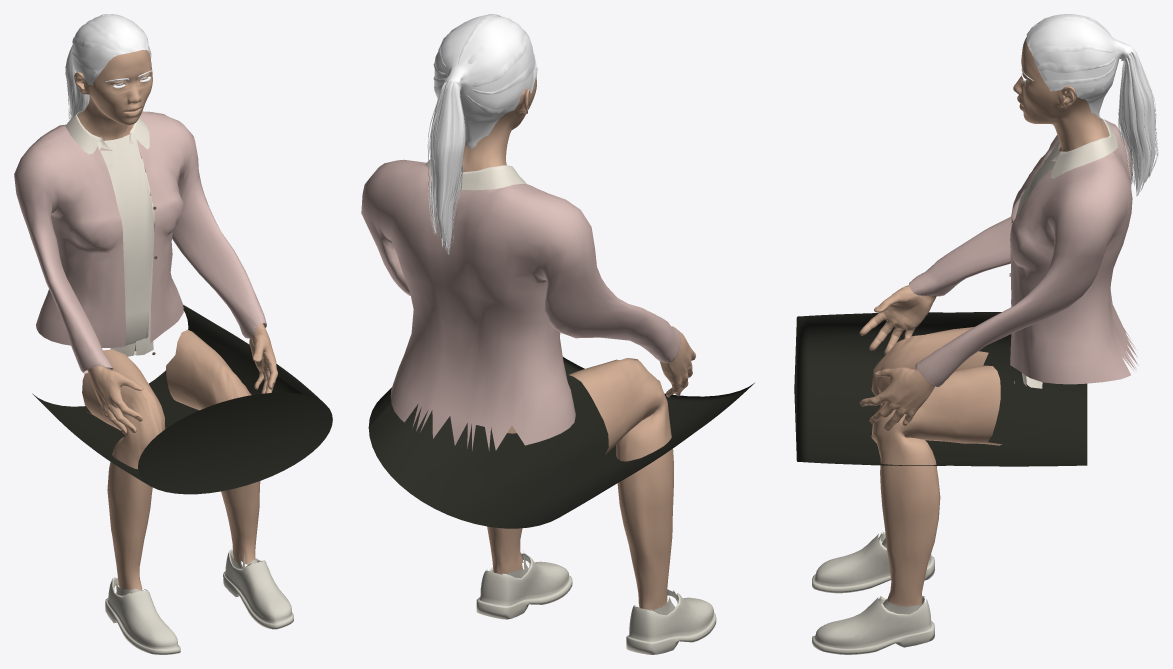
The model's file is young-woman-seated.glb.
The picture shows the model from 3 angles, left to right: view 1: azimuth 30°, elevation 25°; view 2: azimuth 150°, elevation 25°; view 3: azimuth 270°, elevation 25°; orthographic projection. The views are drawn at different scales.
Parts seen in each view (by area): view 1: CC0 fitted clothes/female_elegantsuit01/female_elegantsuit01, smooth human anatomy with per-corner UV seams, continuous seated skirt drape over both thighs, CC0 fitted clothes/shoes04/shoes04, reference fitted ivory crew-neck centre, CC0 fitted hair/ponytail01/ponytail01, reference fitted original CC0 ivory collar, reference fitted continuous ivory knit underlayer; view 2: CC0 fitted clothes/female_elegantsuit01/female_elegantsuit01, continuous seated skirt drape over both thighs, smooth human anatomy with per-corner UV seams, CC0 fitted hair/ponytail01/ponytail01, CC0 fitted clothes/shoes04/shoes04, reference fitted original CC0 ivory collar; view 3: CC0 fitted clothes/female_elegantsuit01/female_elegantsuit01, smooth human anatomy with per-corner UV seams, continuous seated skirt drape over both thighs, CC0 fitted hair/ponytail01/ponytail01, CC0 fitted clothes/shoes04/shoes04, reference fitted original CC0 ivory collar, reference fitted ivory crew-neck centre.
Boxes of the visible parts, x1,y1,x2,y2 form: CC0 fitted clothes/female_elegantsuit01/female_elegantsuit01: (14, 111, 266, 373); smooth human anatomy with per-corner UV seams: (74, 50, 278, 590); continuous seated skirt drape over both thighs: (32, 305, 332, 494); CC0 fitted clothes/shoes04/shoes04: (105, 549, 293, 654); reference fitted ivory crew-neck centre: (97, 134, 154, 351); CC0 fitted hair/ponytail01/ponytail01: (65, 14, 151, 121); reference fitted original CC0 ivory collar: (65, 111, 149, 153); reference fitted continuous ivory knit underlayer: (108, 159, 154, 356); CC0 fitted clothes/female_elegantsuit01/female_elegantsuit01: (361, 159, 680, 451); continuous seated skirt drape over both thighs: (368, 357, 754, 528); smooth human anatomy with per-corner UV seams: (462, 77, 695, 610); CC0 fitted hair/ponytail01/ponytail01: (427, 14, 537, 254); CC0 fitted clothes/shoes04/shoes04: (476, 553, 716, 654); reference fitted original CC0 ivory collar: (425, 159, 526, 190); CC0 fitted clothes/female_elegantsuit01/female_elegantsuit01: (909, 119, 1138, 386); smooth human anatomy with per-corner UV seams: (859, 37, 1109, 606); continuous seated skirt drape over both thighs: (794, 312, 1087, 466); CC0 fitted hair/ponytail01/ponytail01: (1026, 14, 1158, 196); CC0 fitted clothes/shoes04/shoes04: (812, 532, 934, 654); reference fitted original CC0 ivory collar: (1050, 117, 1117, 178); reference fitted ivory crew-neck centre: (1015, 142, 1059, 383).
Size of the model in its own units: 0.507 by 1.3 by 0.7146.
